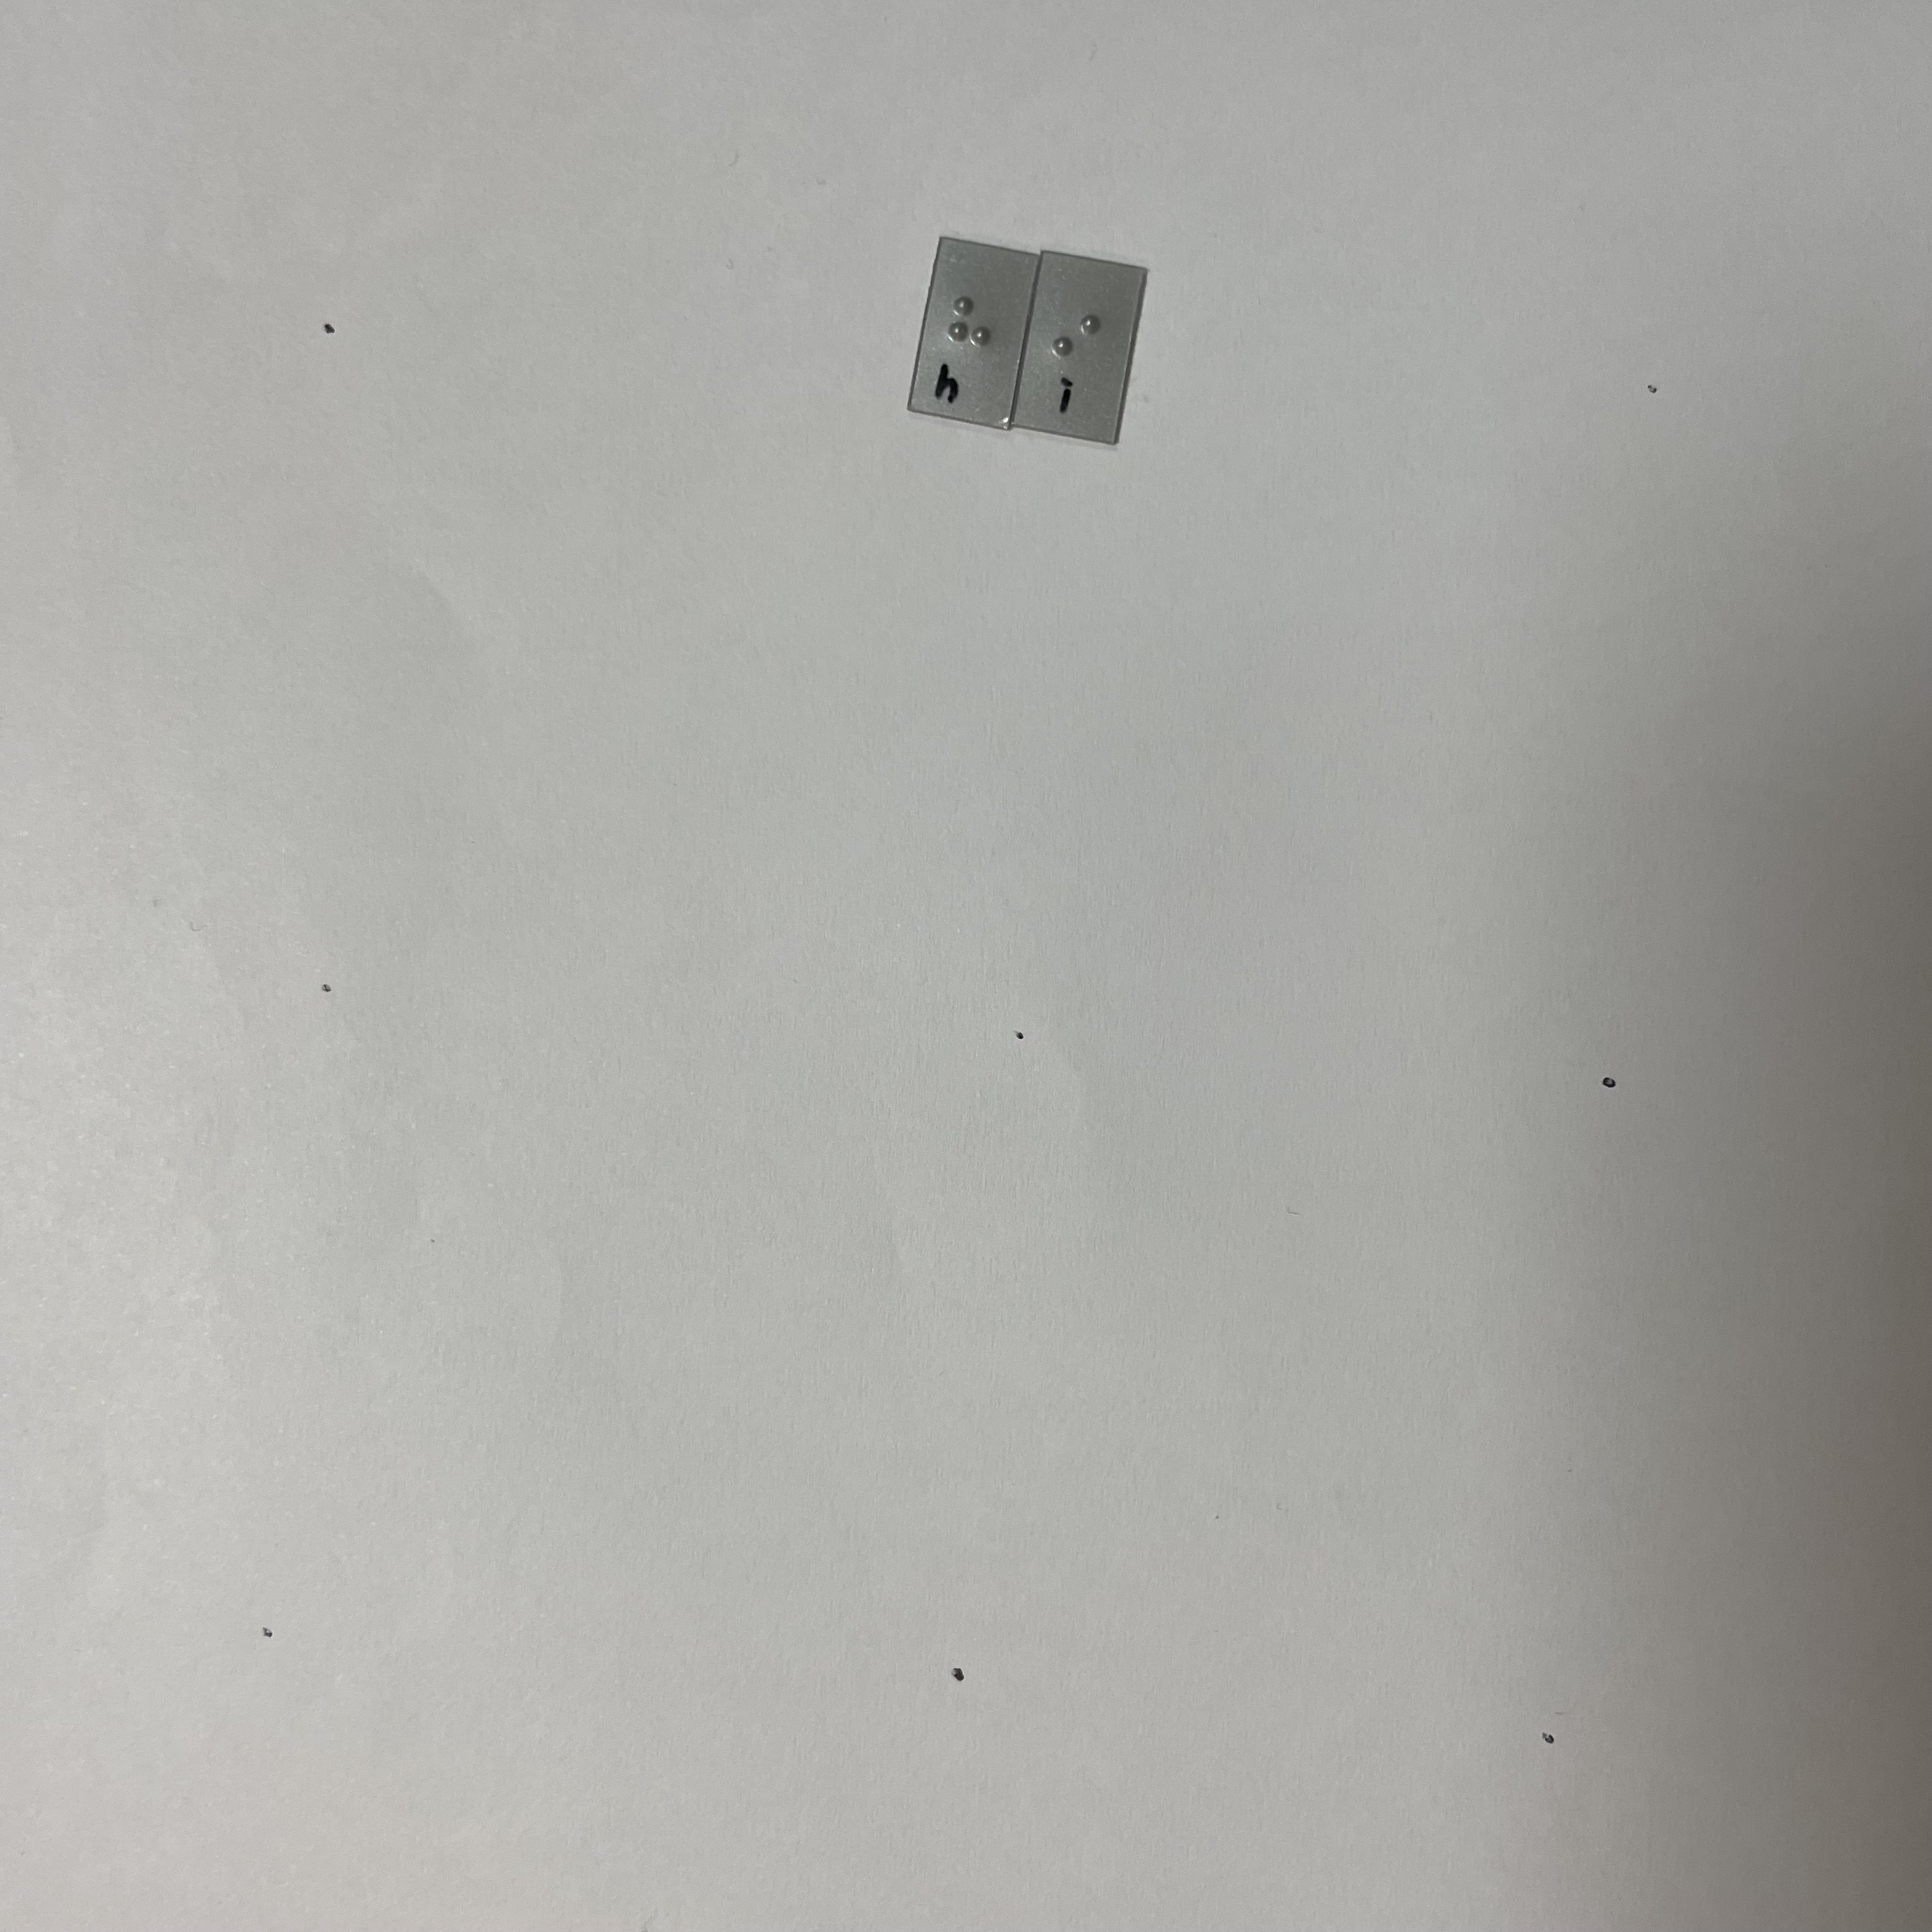h: (944, 282, 1006, 381)
i: (1048, 301, 1110, 391)
